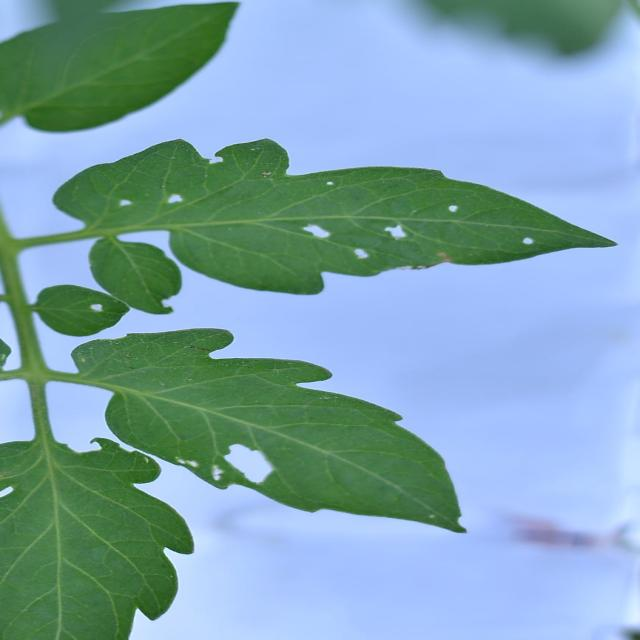infected: (78, 166, 566, 280), (144, 396, 311, 494)
